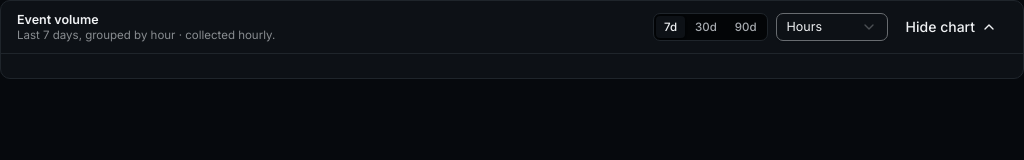
Test: TabMetricsCard › picks its range with the shared segmented control
Expected: the text "Last 7 days, grouped by hour · collected hourly." is shown, [17,28,275,42]
Step 1. Click the button "30d" → (706, 27), box [687,16,725,38]
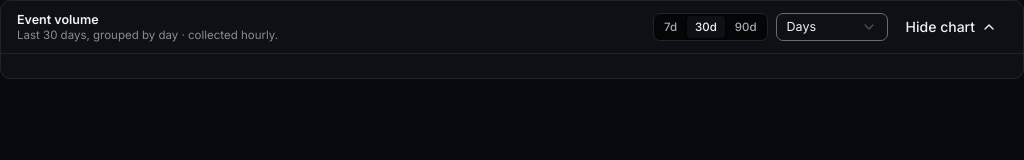
Result: the text "Last 30 days, grouped by day · collected hourly." is shown at [17,28,278,42]
